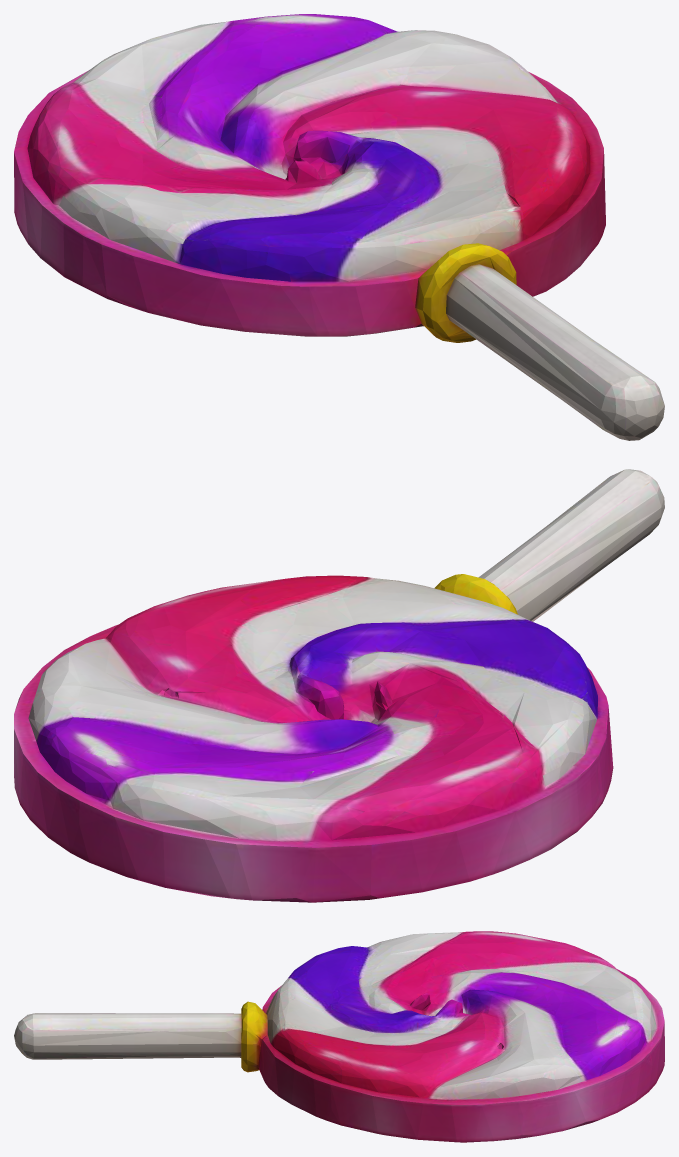
The model's file is sucette.glb.
3 renders of one model, top to bottom at view 1: azimuth 30°, elevation 25°; view 2: azimuth 150°, elevation 25°; view 3: azimuth 270°, elevation 25°, orthographic. The views are drawn at different scales.
Visible parts, largest first — view 1: geometry_0; view 2: geometry_0; view 3: geometry_0.
Boxes of the visible parts, <box> form: geometry_0: <box>14,14,664,440</box>; geometry_0: <box>14,469,664,902</box>; geometry_0: <box>14,931,664,1142</box>.
Size of the model in its own units: 0.6058 by 0.1201 by 0.998.
Materials: 1 (1 with a texture image).
